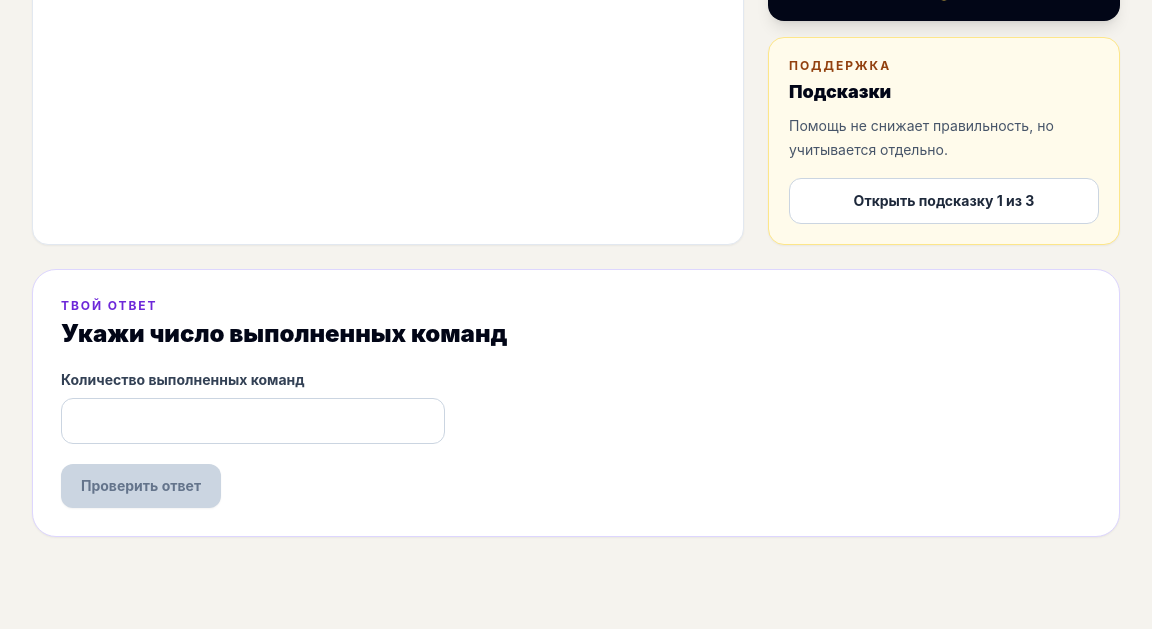
Test: экран учебной задачи › принимает целое число команд в задаче на трассировку
(page scrolled)
Check: the button "Проверить ответ" is disabled, box x1=61 y1=464 x2=221 y2=508
Type "2.5" into the number field named "Количество шагов" at coordinates (253, 420), box x1=61 y1=398 x2=445 y2=444
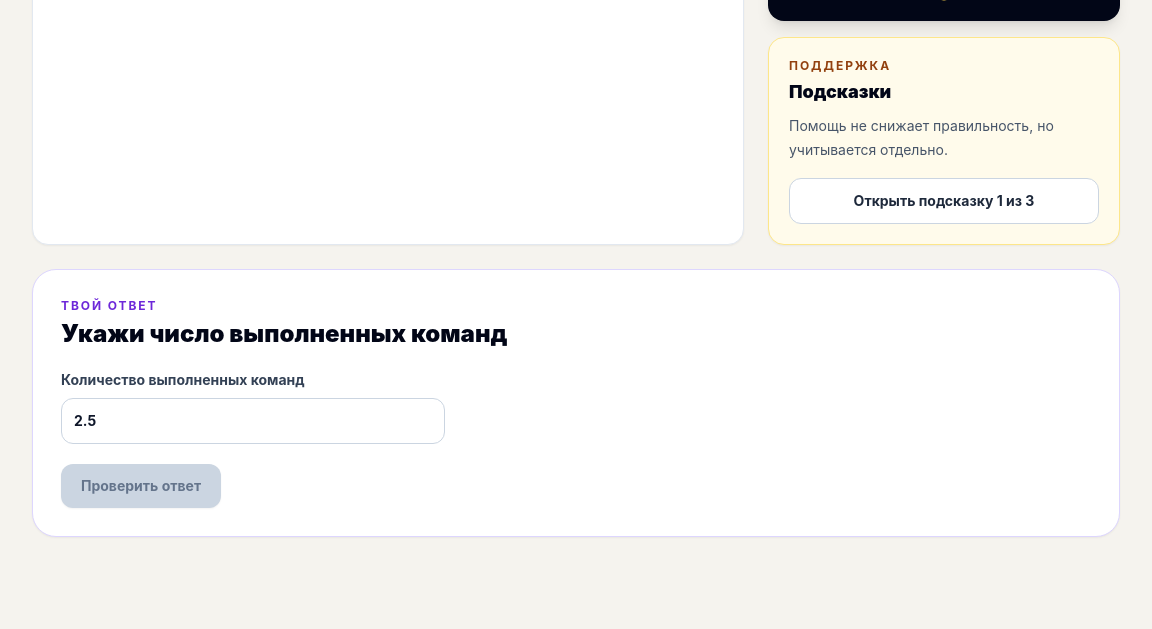
Check: the button "Проверить ответ" is disabled, box x1=61 y1=464 x2=221 y2=508
Replace the text in the number field named "Количество шагов" with "2" at coordinates (253, 420), box x1=61 y1=398 x2=445 y2=444
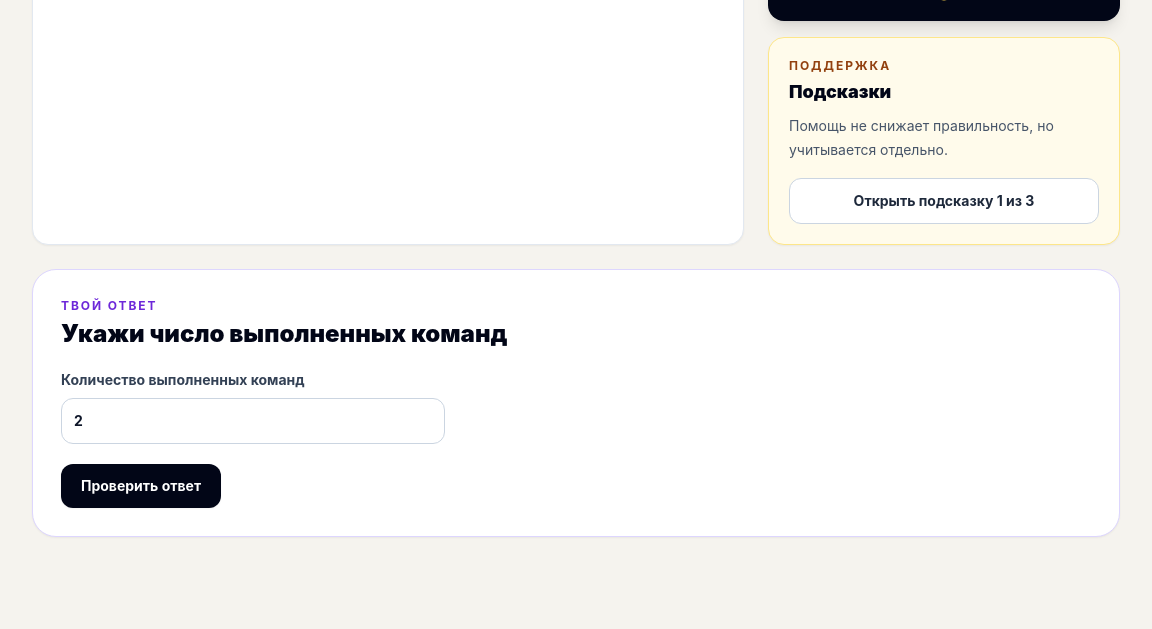
Click the button "Проверить ответ" at coordinates (141, 486), box x1=61 y1=464 x2=221 y2=508
(page scrolled)
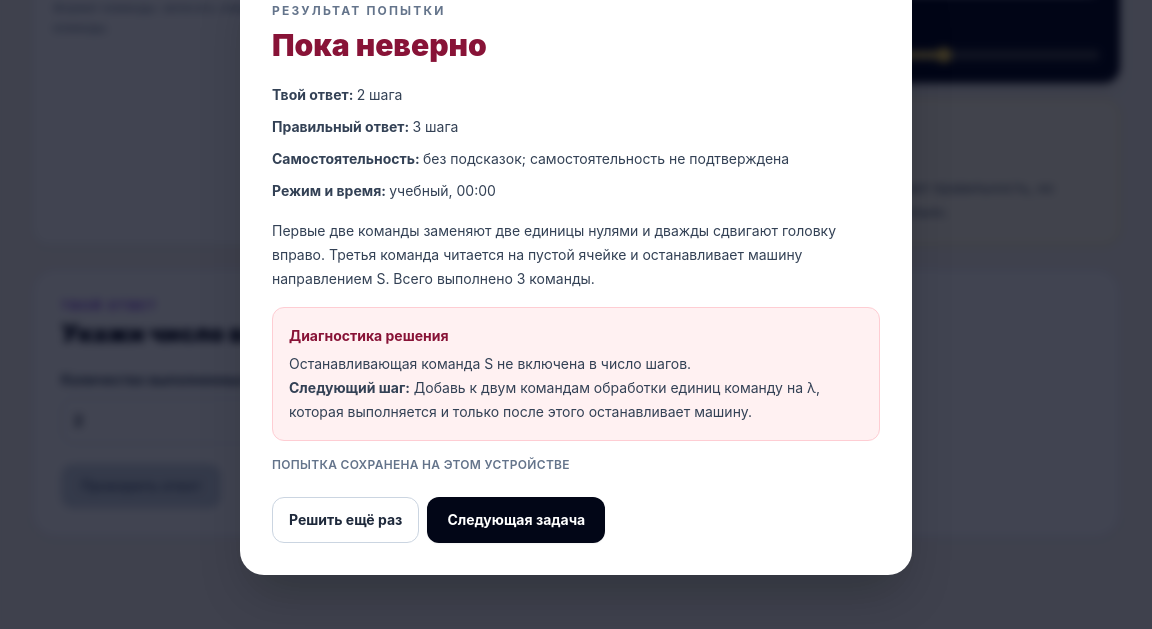
Check: the message shows "Пока неверно", box x1=272 y1=27 x2=487 y2=63
Check: the message shows "Останавливающая команда S не включена в число шагов.", box x1=289 y1=355 x2=691 y2=372
Check: the message shows "Следующий шаг:", box x1=289 y1=379 x2=410 y2=396
Click the button "Решить ещё раз" at coordinates (346, 520), box x1=272 y1=497 x2=419 y2=543
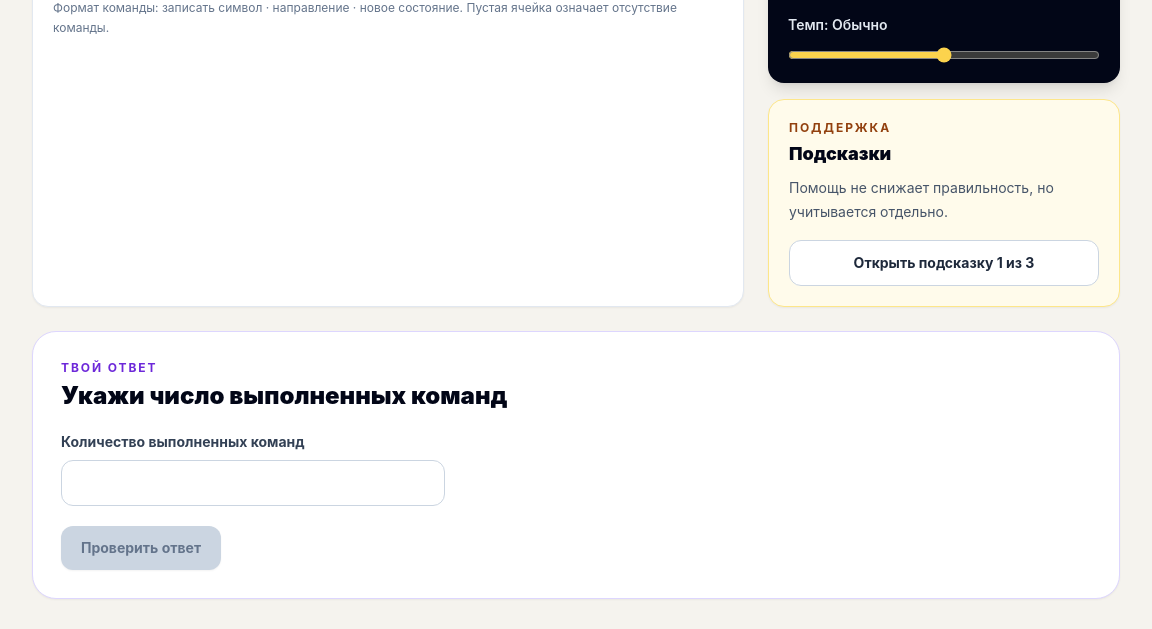
Type "3" into the number field named "Количество шагов" at coordinates (253, 482), box x1=61 y1=460 x2=445 y2=506
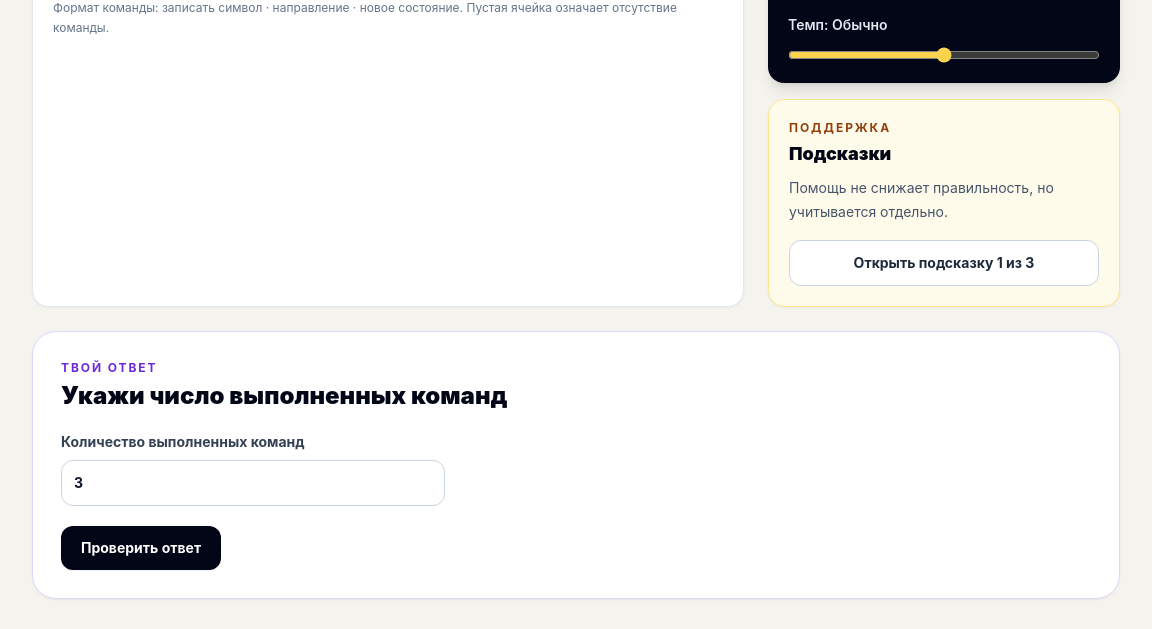
Check: the button "Проверить ответ" is enabled
Click the button "Проверить ответ" at coordinates (141, 548), box x1=61 y1=526 x2=221 y2=570
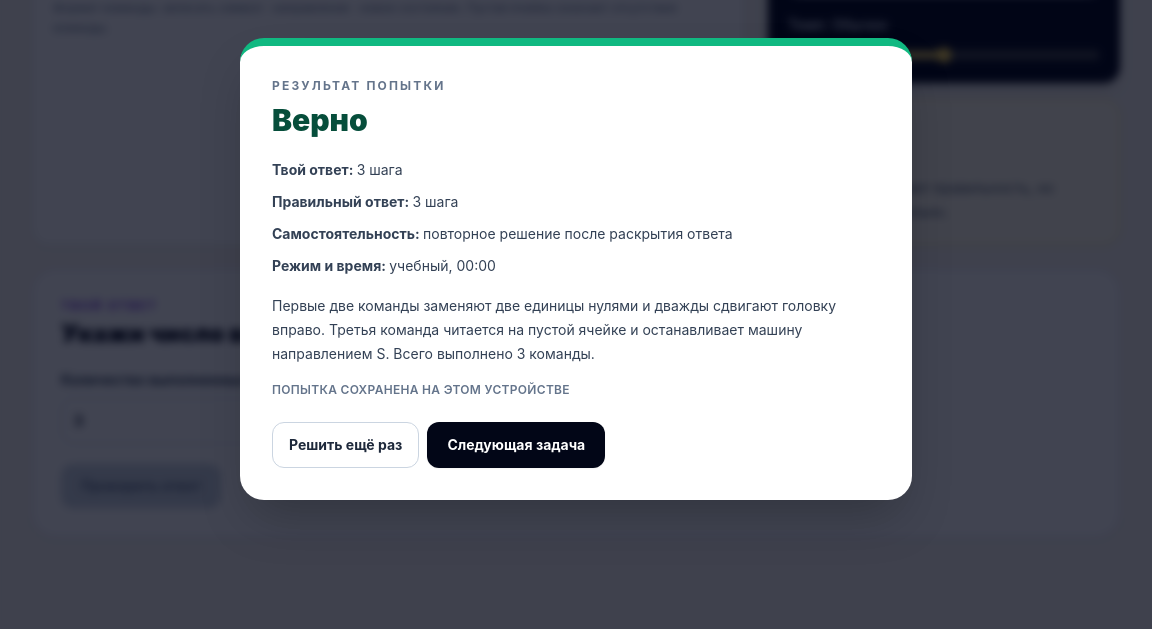
Check: the message shows "Верно", box x1=272 y1=102 x2=368 y2=138
